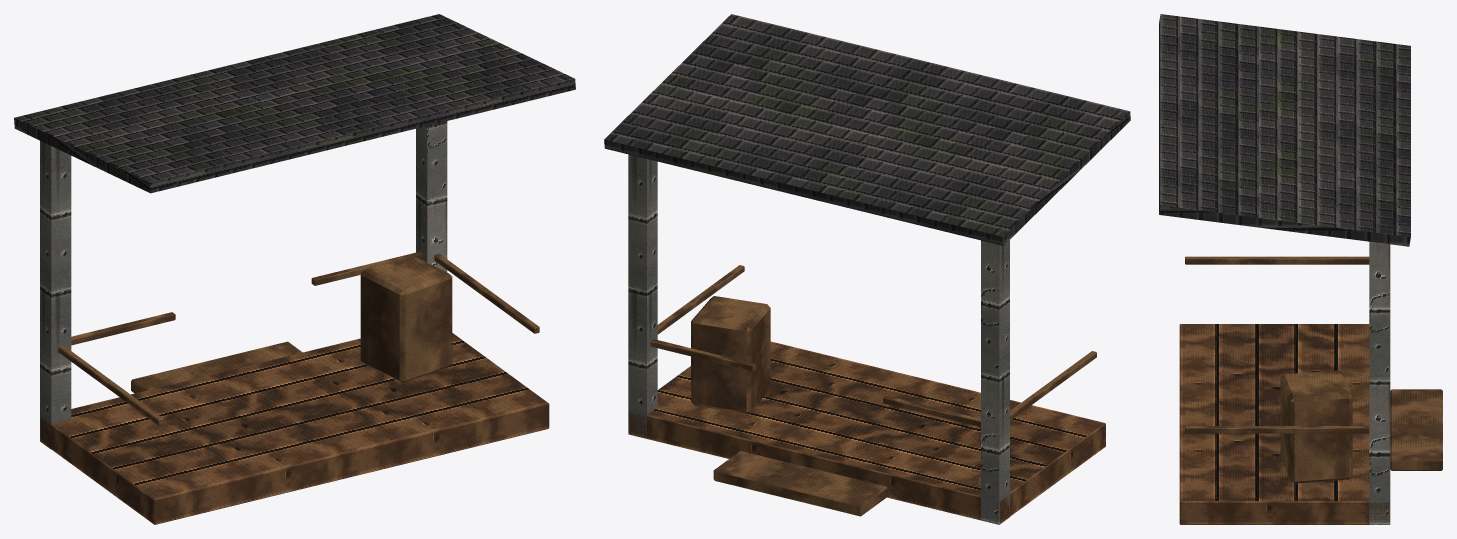
File: ext_porch.glb
3 renders of one model, left to right at view 1: azimuth 30°, elevation 25°; view 2: azimuth 150°, elevation 25°; view 3: azimuth 270°, elevation 25°, orthographic. The views are drawn at different scales.
Parts seen in each view (by area): view 1: ext_porch_mesh, ext_porch_col-colonly.001, ext_porch_col-colonly.002; view 2: ext_porch_mesh, ext_porch_col-colonly.002, ext_porch_col-colonly.001; view 3: ext_porch_mesh, ext_porch_col-colonly.002.
Part boxes in pixels (left/top/right/bottom): ext_porch_mesh: left=14, top=14, right=575, bottom=524; ext_porch_col-colonly.001: left=40, top=141, right=71, bottom=449; ext_porch_col-colonly.002: left=416, top=121, right=447, bottom=272; ext_porch_mesh: left=604, top=14, right=1130, bottom=523; ext_porch_col-colonly.002: left=628, top=154, right=657, bottom=438; ext_porch_col-colonly.001: left=981, top=240, right=1009, bottom=524; ext_porch_mesh: left=1159, top=14, right=1442, bottom=524; ext_porch_col-colonly.002: left=1369, top=241, right=1390, bottom=524.
Size of what is drawn, in the model's own units: 4.3 by 3.42 by 2.7.
Materials: 4 (4 with a texture image).
